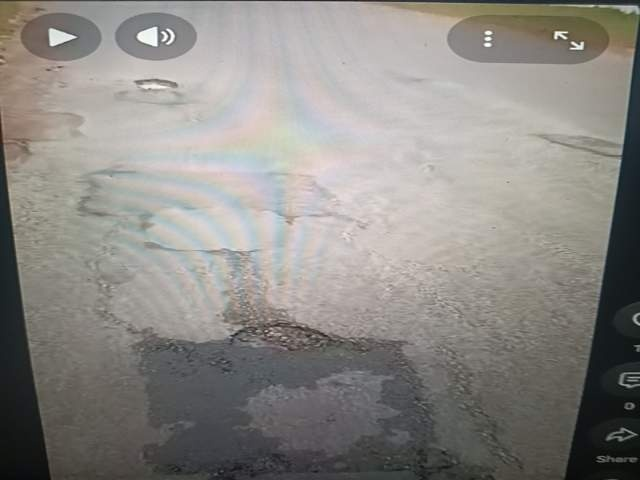pothole: (136, 403, 341, 480), (536, 403, 640, 480)
